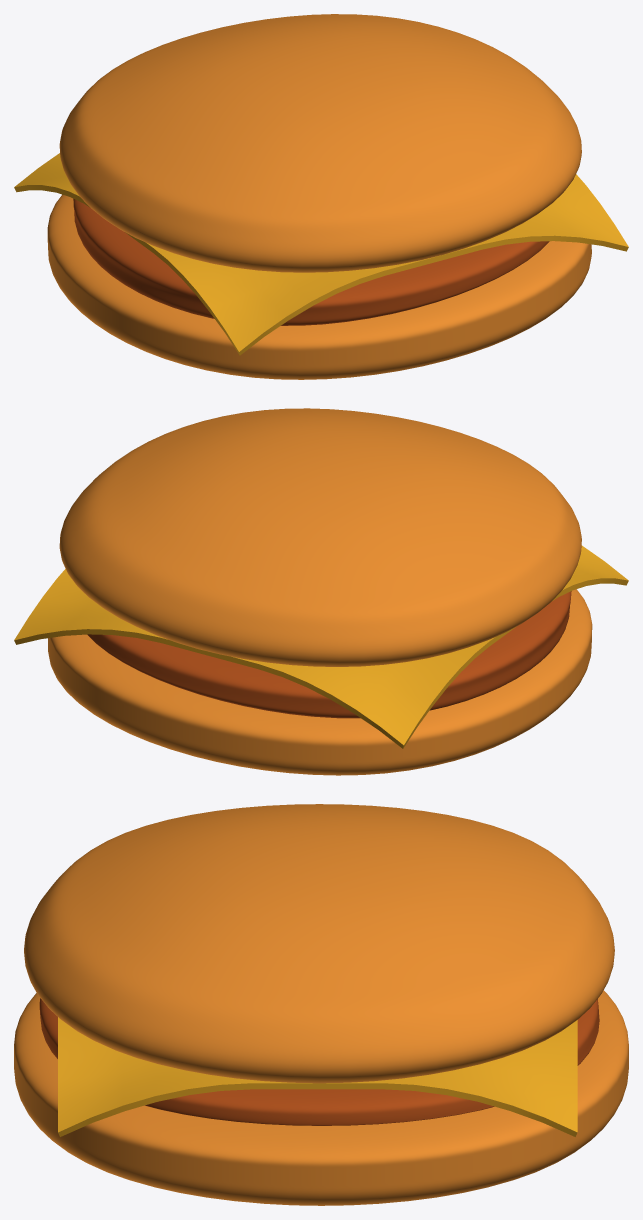
Rendered from humburguer.gltf.
The picture shows the model from 3 angles, top to bottom: view 1: azimuth 30°, elevation 25°; view 2: azimuth 150°, elevation 25°; view 3: azimuth 270°, elevation 25°; orthographic projection. The views are drawn at different scales.
Visible parts, largest first — view 1: Cube.002, Cube, Plane, Cube.001; view 2: Cube.002, Cube, Plane, Cube.001; view 3: Cube.002, Cube, Plane, Cube.001.
Part boxes in pixels (x1,y1,x2,y2): Cube.002: (59,14,581,272); Cube: (47,194,591,379); Plane: (14,153,628,355); Cube.001: (73,199,549,325); Cube.002: (59,408,581,666); Cube: (48,589,592,775); Plane: (14,545,628,748); Cube.001: (87,591,571,718); Cube.002: (24,804,614,1083); Cube: (14,990,628,1205); Plane: (58,1017,577,1136); Cube.001: (39,998,599,1125).
Size of the model in its own units: 8.8 by 4.04 by 8.8.
